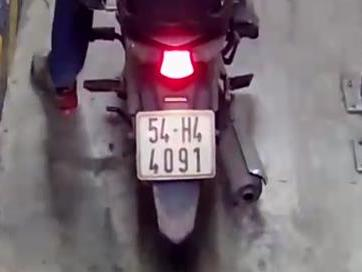num_plate: (137, 111, 215, 180)
